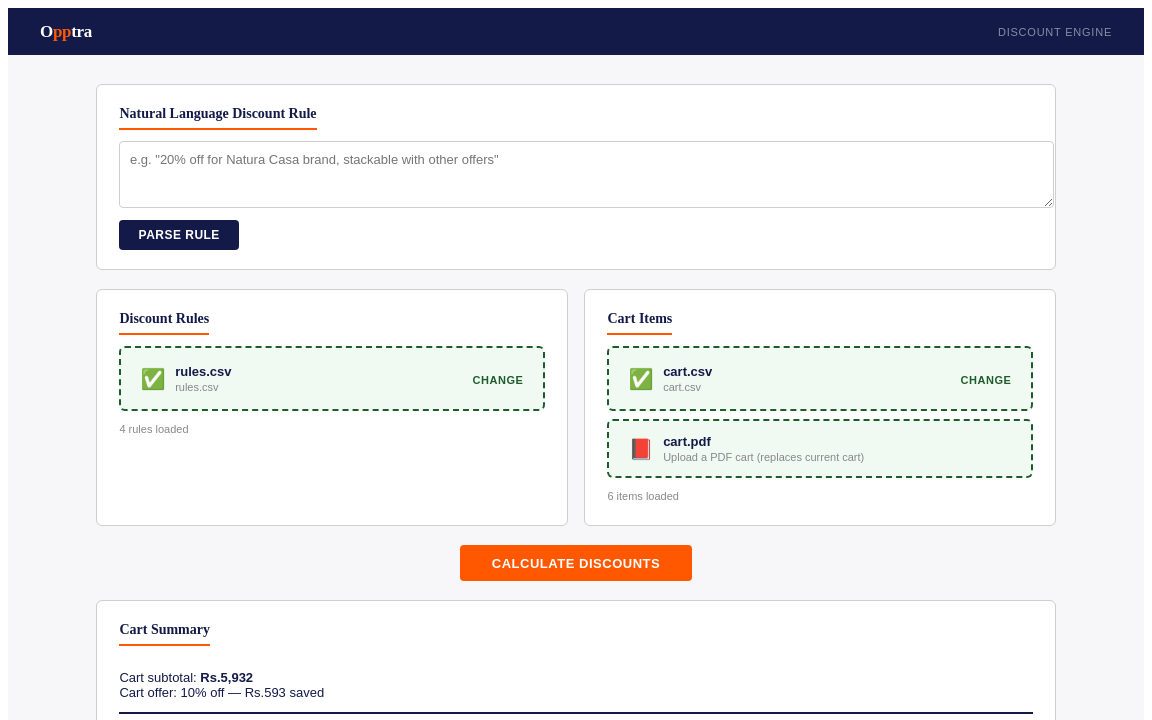
Scenario: integration › NL confirm increases rule count and recalculates
Earlier steps of the test are not shown.
expect the text "4 rules loaded" is shown: met, box [119,423,188,435]
Replace the text in the text box with placeholder "e.g." with "5% off Natura Casa stackable" at (587, 174), box [119,141,1054,208]
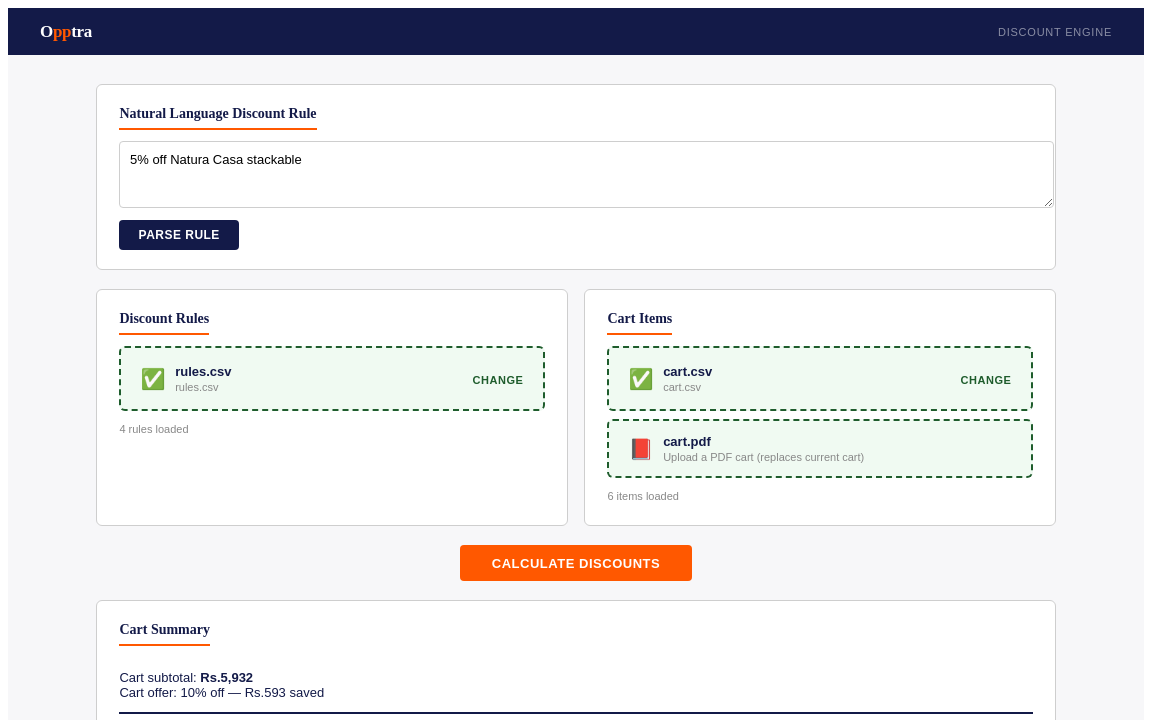
Click the button "Parse Rule" at (179, 234), box [119,220,239,250]
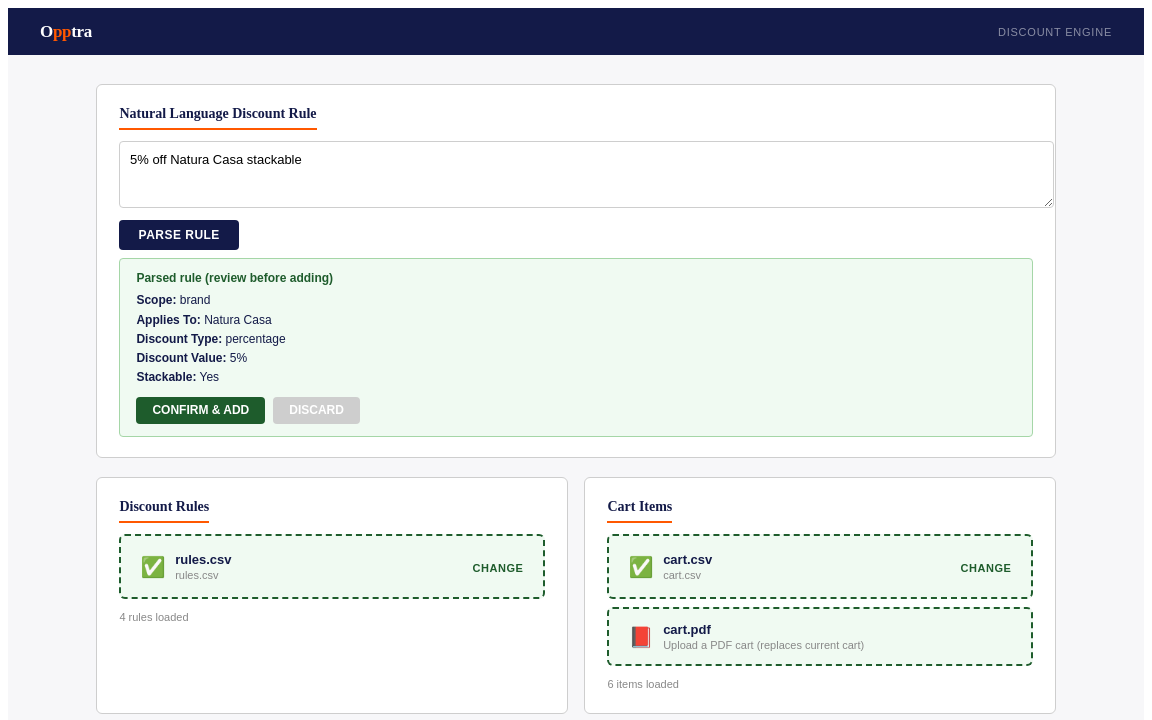
expect the button "Confirm & Add" is shown: met
Click the button "Confirm & Add" at (201, 410), box [136,397,265,424]
(page scrolled)
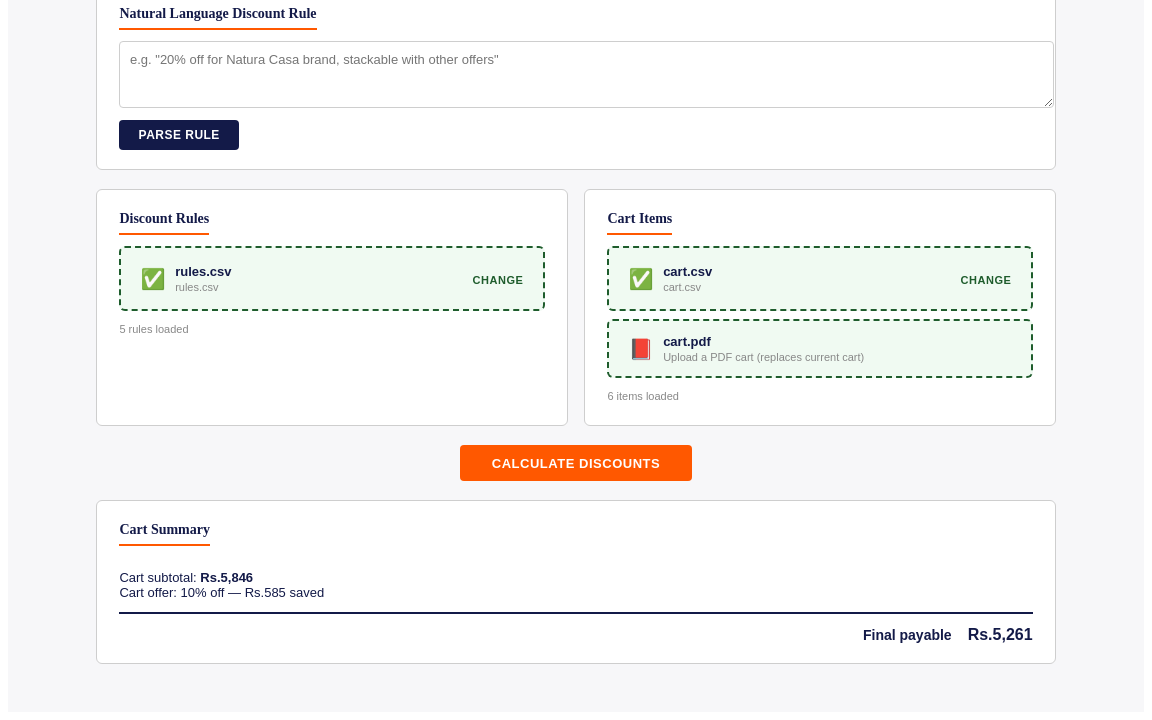
expect the text "5 rules loaded" is shown: met, box [119,323,188,335]
expect the text "Rs.5,846" is shown: met, box [200,570,253,585]
expect the text "Cart offer: 10% off — Rs.585 saved" is shown: met, box [119,585,324,600]
